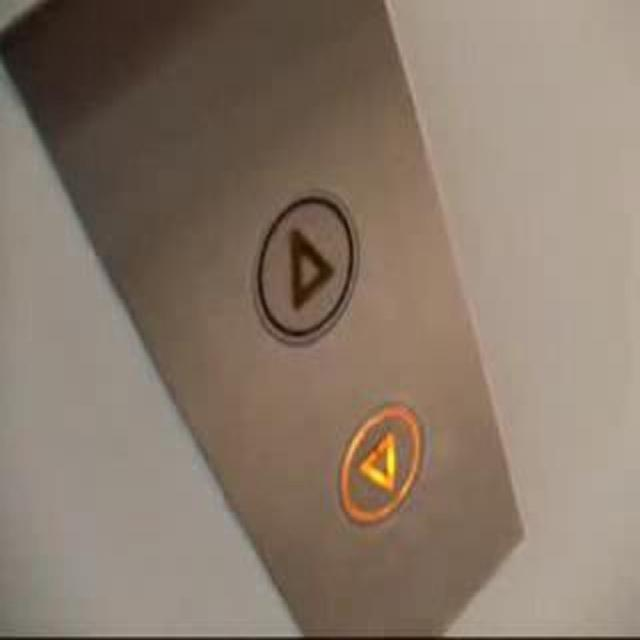down: (335, 398, 426, 526)
up: (248, 186, 360, 350)
